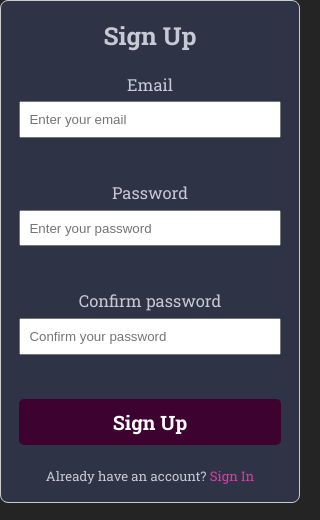
it: SignUp component › displays validation error for invalid email
Type "invalid-email" into the field labelled "Email" at (150, 120), box left=19, top=101, right=281, bottom=138
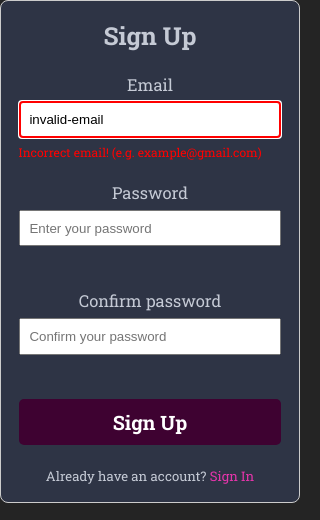
Now the text "Incorrect email! (e.g. example@gmail.com)" is shown, box left=19, top=144, right=262, bottom=160
